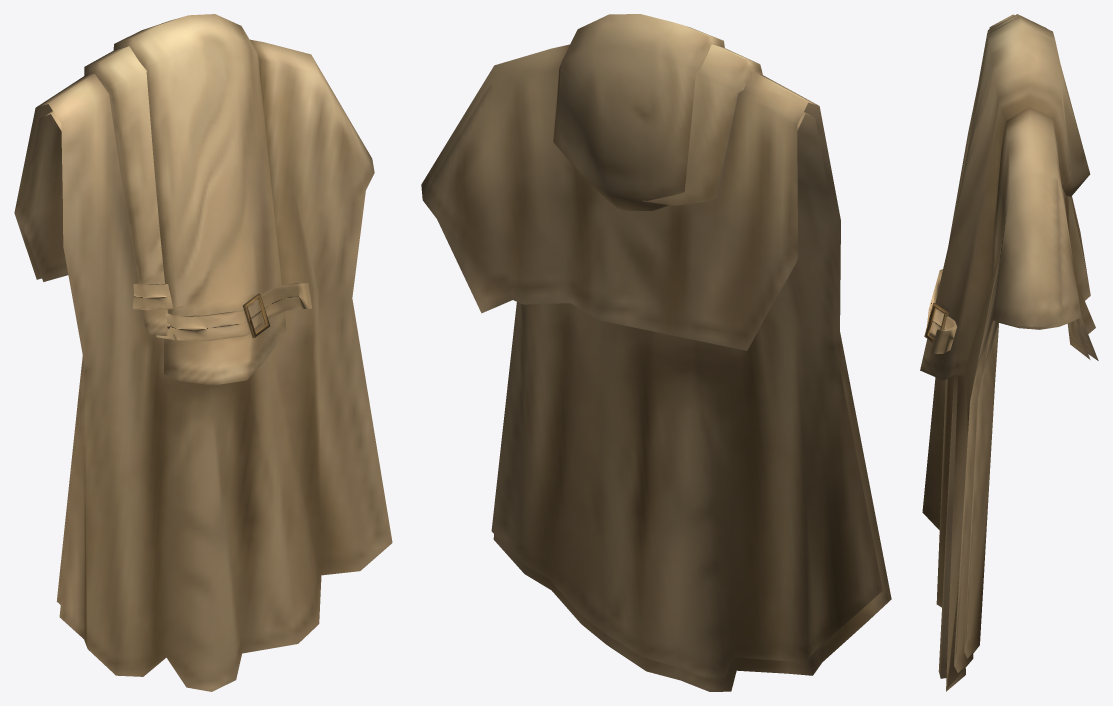
Rendered from ShenMiRenJia_01_fengyi_01.FBX.
3 views of the same model, side by side, from view 1: azimuth 30°, elevation 25°; view 2: azimuth 150°, elevation 25°; view 3: azimuth 270°, elevation 25° (orthographic). The views are drawn at different scales.
Visible parts, largest first — view 1: ShenMiRenJia_01_fengyi_01; view 2: ShenMiRenJia_01_fengyi_01; view 3: ShenMiRenJia_01_fengyi_01.
Boxes of the visible parts, box(x1,y1,x2,y2) form: ShenMiRenJia_01_fengyi_01: box(14, 14, 392, 691); ShenMiRenJia_01_fengyi_01: box(421, 14, 891, 691); ShenMiRenJia_01_fengyi_01: box(920, 14, 1098, 691).
Bounding box in the file's own units: 245 × 406 × 102.
